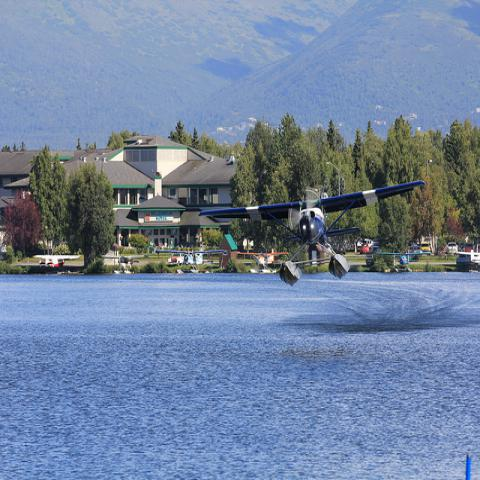car: (166, 253, 185, 266), (446, 241, 460, 254), (360, 244, 370, 255), (420, 243, 432, 252), (370, 241, 380, 251), (434, 247, 445, 255), (414, 246, 423, 254), (458, 242, 465, 252), (465, 243, 472, 252), (406, 246, 411, 254)
